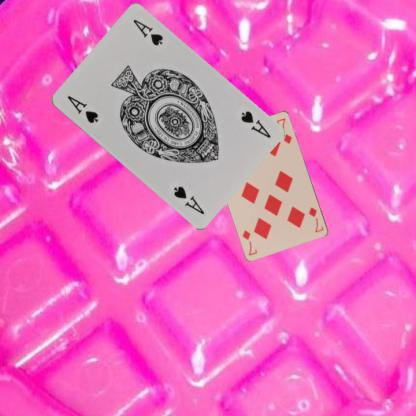7d: (306, 205, 325, 234)
As: (64, 93, 100, 125), (238, 108, 272, 140)
